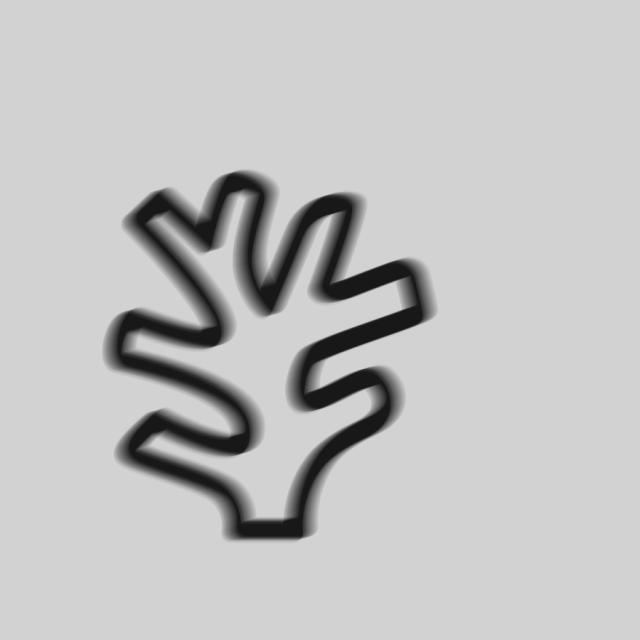coral: (98, 167, 447, 551)
